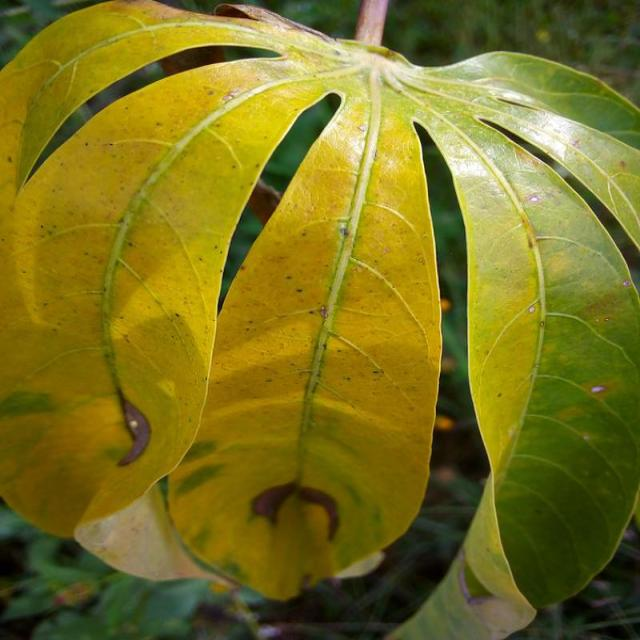cassava leaf: (0, 1, 638, 632)
